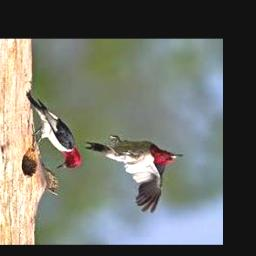Woodpecker: (84, 135, 184, 213), (26, 91, 83, 170)
